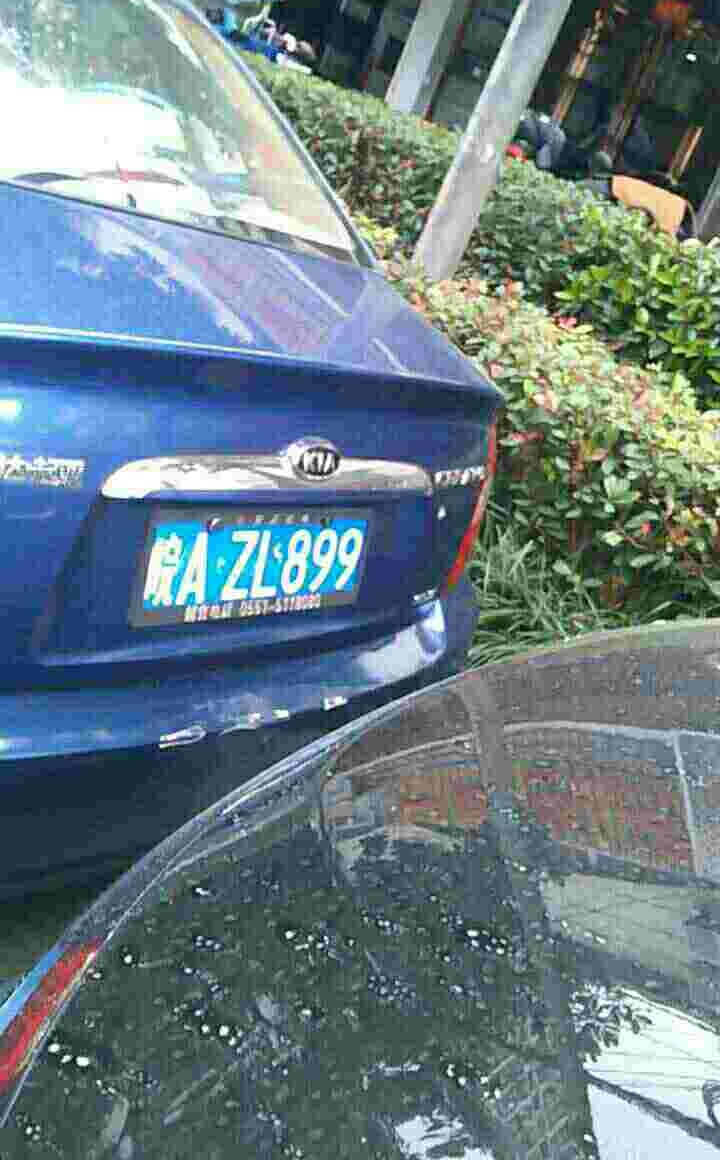license_plate: (136, 517, 373, 618)
